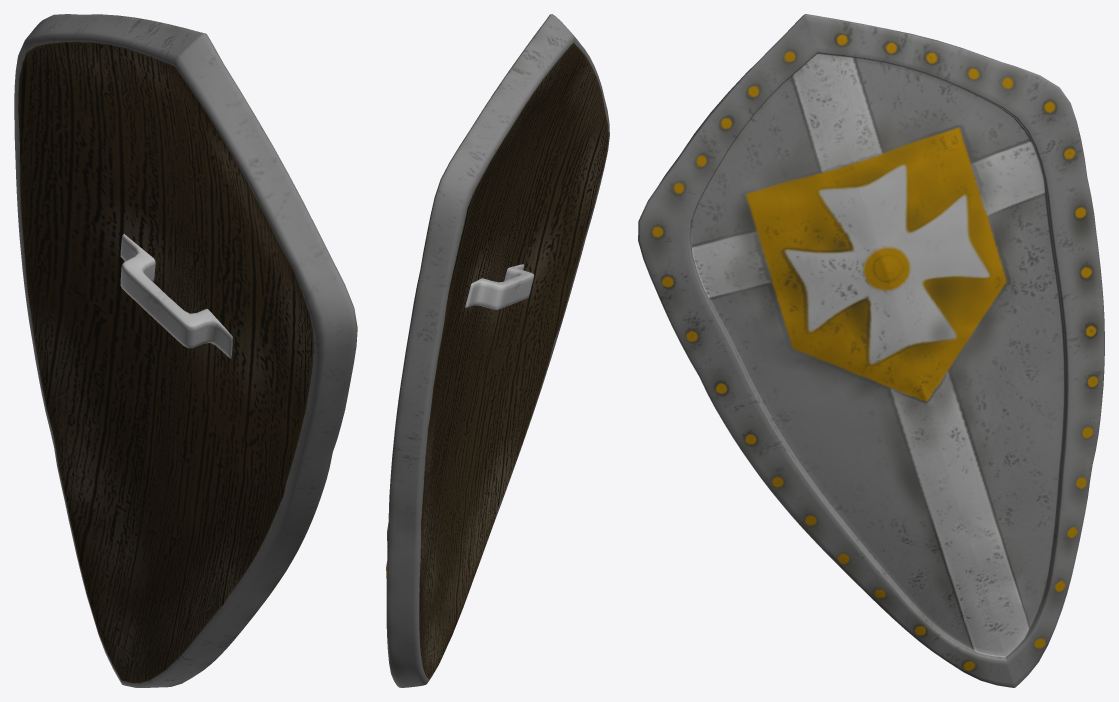
The model's file is shield.glb.
The picture shows the model from 3 angles, left to right: view 1: azimuth 30°, elevation 25°; view 2: azimuth 150°, elevation 25°; view 3: azimuth 270°, elevation 25°; orthographic projection. The views are drawn at different scales.
Visible parts, largest first — view 1: Object_17; view 2: Object_17; view 3: Object_17.
Part boxes in pixels (x1,y1,x2,y2): Object_17: (14, 14, 357, 687); Object_17: (386, 14, 609, 687); Object_17: (638, 14, 1104, 687).
Size of the model in its own units: 19.96 by 119 by 77.58.
Materials: 1 (1 with a texture image).
